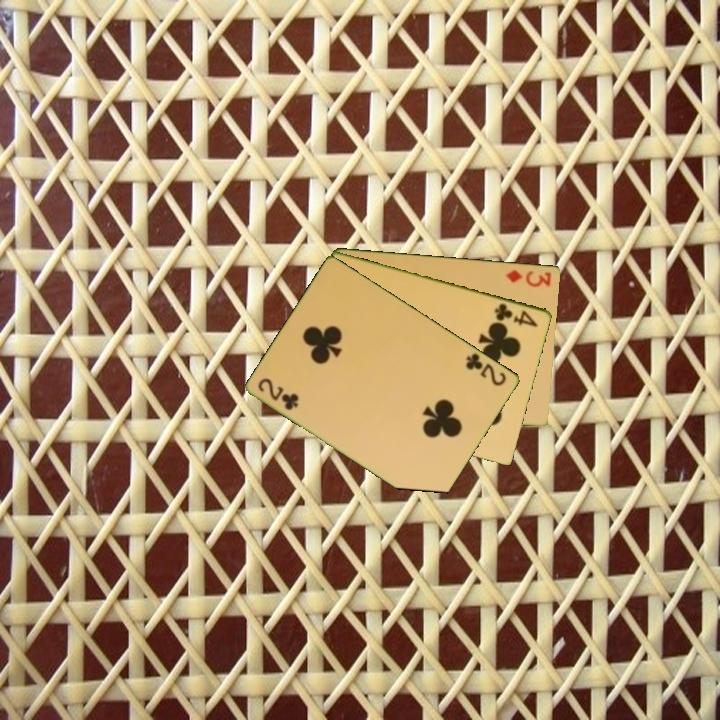2c: (462, 349, 510, 389), (255, 374, 302, 413)
3d: (502, 266, 554, 290)
4c: (491, 299, 541, 330)
